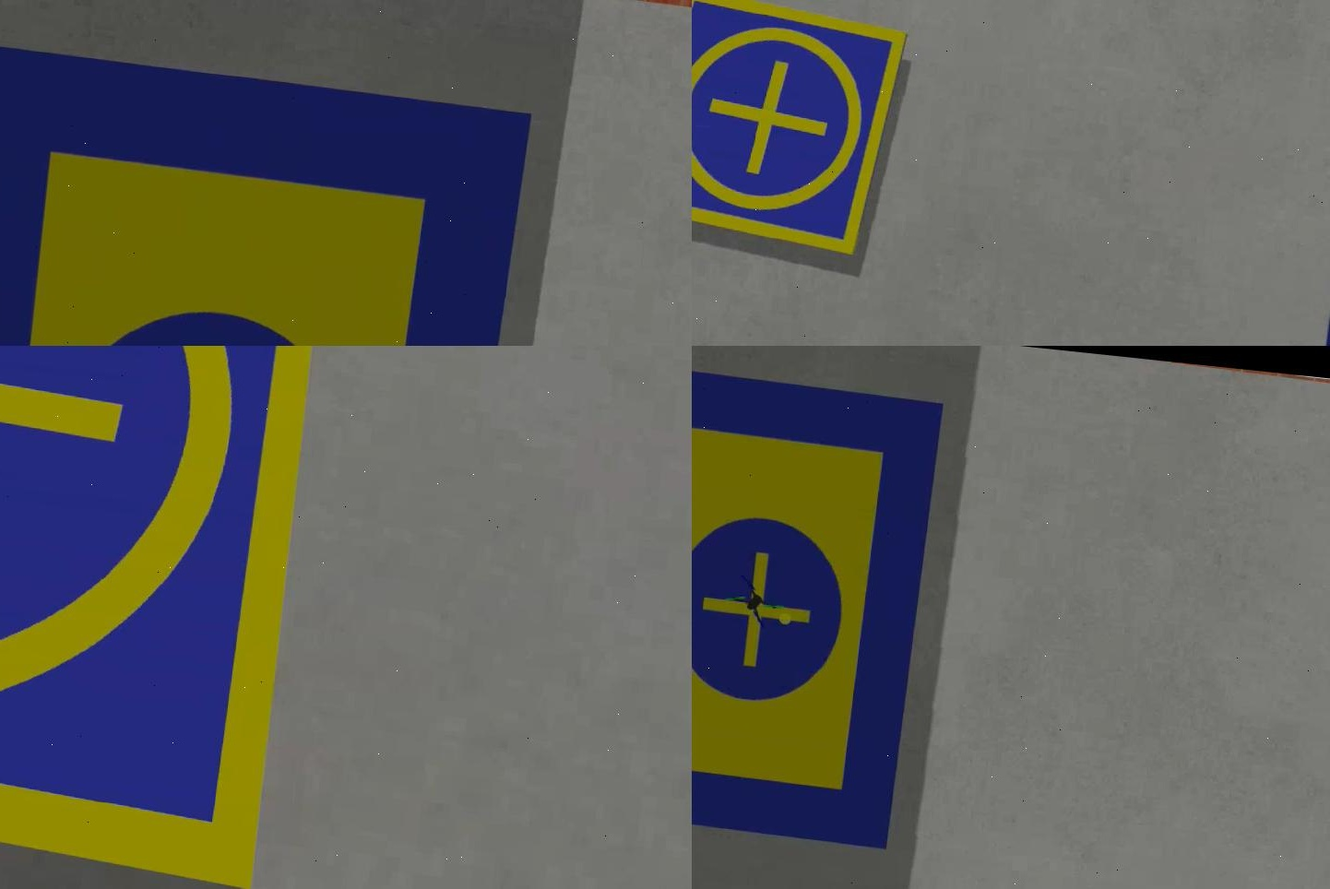large_base: (0, 45, 531, 347), (690, 362, 944, 849)
small_base: (0, 347, 336, 889), (690, 1, 907, 262)
